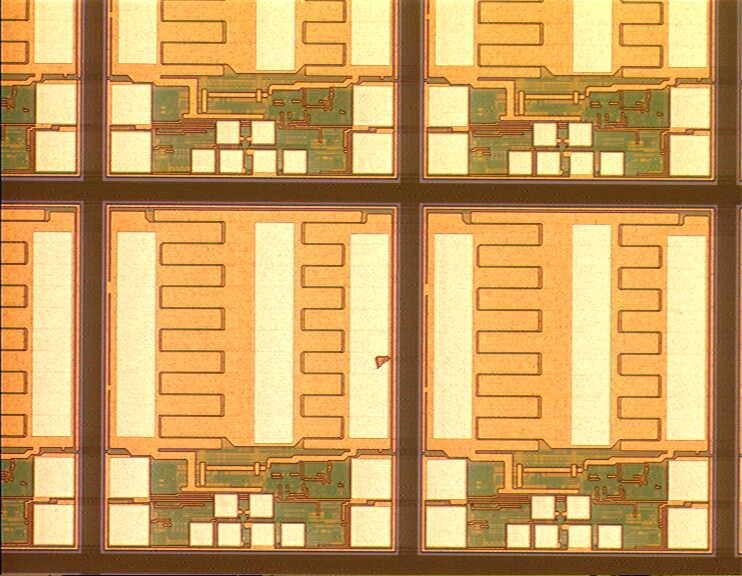BLOCK ETCH: (376, 355, 394, 371)
